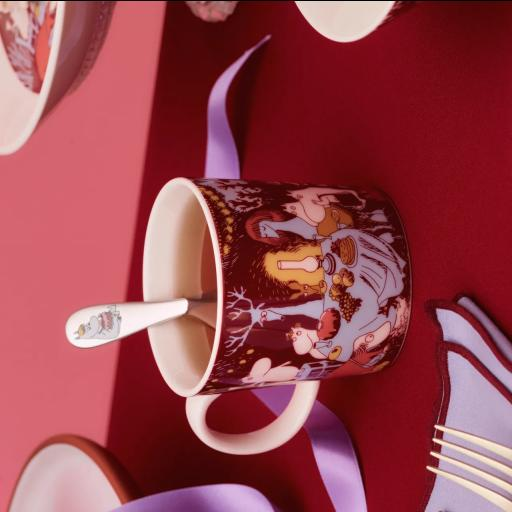red mug: (144, 179, 411, 454)
